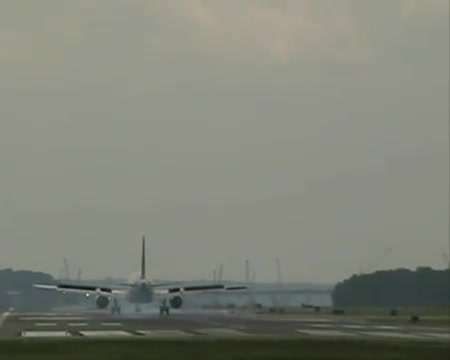aeroplane: (32, 233, 251, 320)
